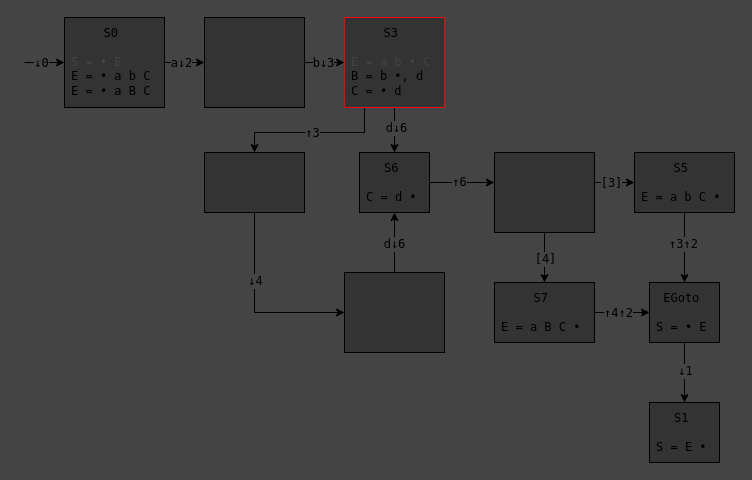
This 752x480 diagram has some shape labels left out. The shapes that lost their labels are listed below. From the top down, each one's box as (x1, y1, x2, y2) in pixels, then its label:
(204, 16, 304, 108): S2 E = a • b C E = a • B C B = • b
(204, 152, 304, 212): BGoto E = a • B C
(494, 152, 594, 232): CGoto E = a b • C E = a B • C
(344, 272, 444, 352): S4 E = a B • C C = • d
